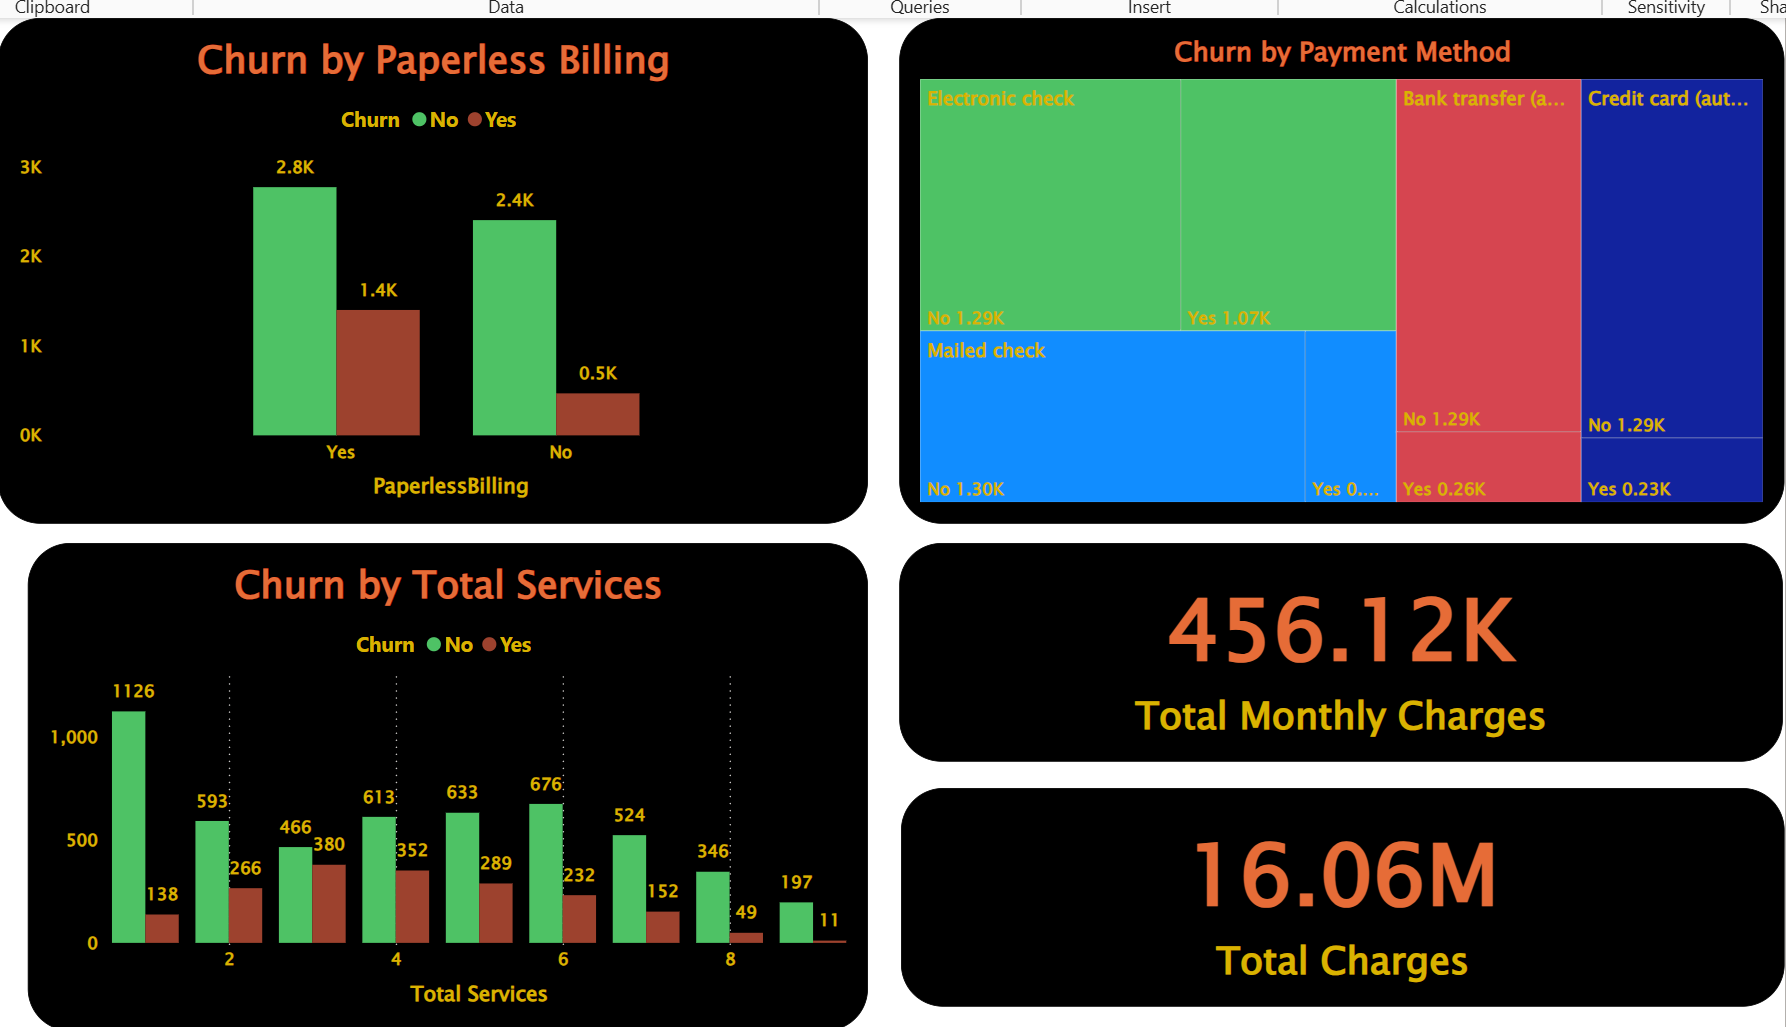

The page's visual inventory and layout, read from the dashboard file:
{"tool":"powerbi","page":{"name":"Page 2","canvas":[1280,720],"ordinal":1},"visuals":[{"type":"clusteredColumnChart","title":"Churn by Paperless Billing","fields":{"Y":["CountNonNull(Cutomer_churn_analysis.Churn)"],"Category":["Cutomer_churn_analysis.PaperlessBilling"],"Series":["Cutomer_churn_analysis.Churn"]},"box":[10,0,618.1,359.4],"z":0},{"type":"treemap","title":"Churn by Payment Method","fields":{"Values":["CountNonNull(Cutomer_churn_analysis.Churn)"],"Group":["Cutomer_churn_analysis.PaymentMethod"],"Details":["Cutomer_churn_analysis.Churn"]},"box":[650.5,0,629.3,359.4],"z":1000},{"type":"clusteredColumnChart","title":"Churn by Total Services","fields":{"Category":["Cutomer_churn_analysis.Total Services"],"Y":["CountNonNull(Cutomer_churn_analysis.Churn)"],"Series":["Cutomer_churn_analysis.Churn"]},"box":[31.1,373.1,597,347],"z":2000},{"type":"card","fields":{"Values":["Sum(Cutomer_churn_analysis.MonthlyCharges)"]},"box":[650.5,373.1,628.1,155.5],"z":2001},{"type":"card","fields":{"Values":["Sum(Cutomer_churn_analysis.TotalCharges)"]},"box":[651.7,547.3,628.1,155.5],"z":2002}]}

Visuals, with their boxes in screenshot pixels (x1, y1, x2, y2):
"Churn by Paperless Billing" clusteredColumnChart: bbox(0, 9, 863, 522)
"Churn by Payment Method" treemap: bbox(895, 9, 1785, 522)
"Churn by Total Services" clusteredColumnChart: bbox(12, 542, 863, 1026)
card - Sum(Cutomer_churn_analysis.MonthlyCharges): bbox(895, 542, 1785, 763)
card - Sum(Cutomer_churn_analysis.TotalCharges): bbox(897, 790, 1785, 1012)
